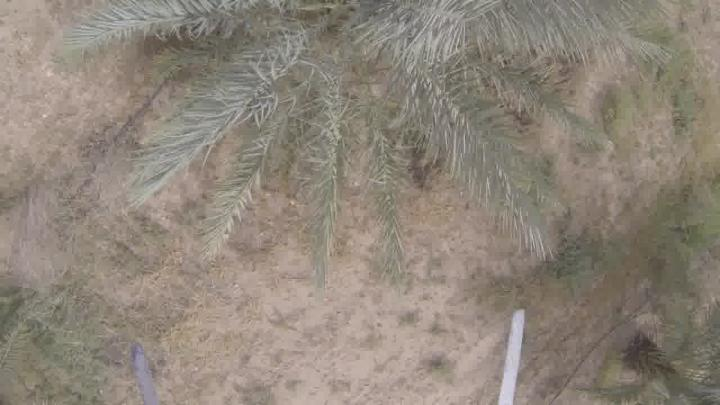Date-Palm-Crown: (181, 0, 497, 168)
